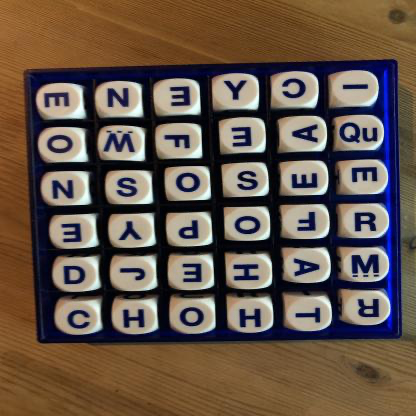a: (283, 119, 327, 152), (284, 251, 329, 282)
c: (275, 77, 318, 107), (58, 303, 99, 332)
d: (56, 261, 95, 289)
e: (222, 121, 266, 154), (39, 87, 84, 119), (169, 257, 213, 288), (283, 164, 326, 195), (343, 164, 385, 194), (156, 84, 200, 112), (55, 217, 94, 247)
f: (158, 126, 202, 160), (286, 207, 328, 239)
h: (226, 257, 272, 290), (228, 299, 273, 332), (115, 303, 158, 333)
i: (334, 76, 375, 107)
j: (113, 258, 157, 292)
m: (344, 248, 387, 281)
n: (99, 84, 141, 115), (46, 172, 86, 204)
o: (226, 209, 271, 241), (166, 169, 212, 200), (172, 299, 215, 331), (44, 130, 85, 163)
p: (169, 214, 211, 247)
qu: (338, 118, 383, 151)
r: (345, 293, 389, 325), (345, 204, 387, 237)
s: (224, 166, 267, 197), (109, 173, 151, 203)
t: (287, 298, 330, 330)
w: (103, 128, 144, 160)
y: (214, 79, 258, 109), (112, 217, 153, 247)
